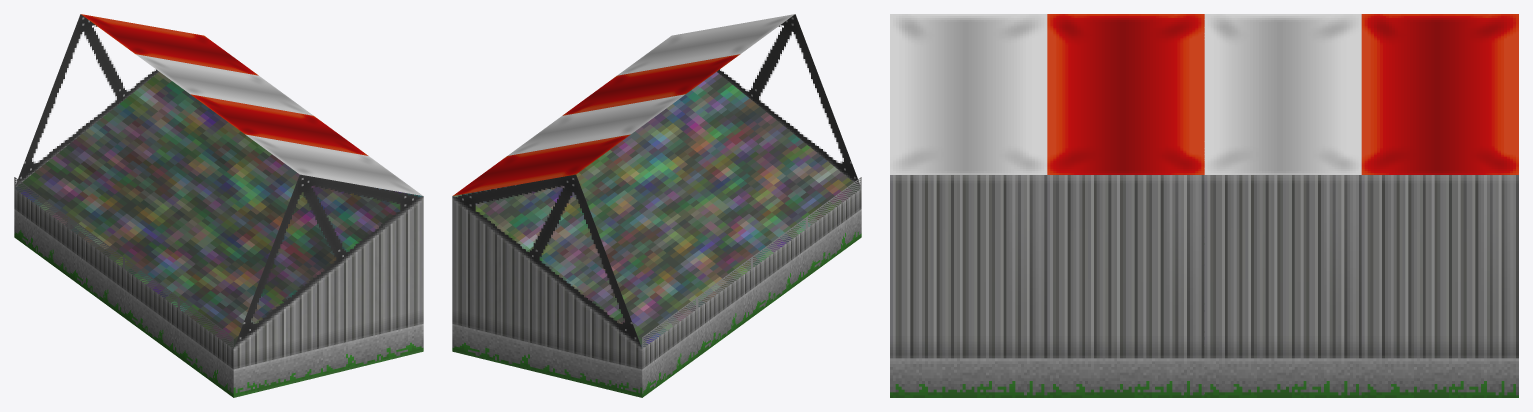
File: Stand.glb
3 renders of one model, left to right at view 1: azimuth 30°, elevation 25°; view 2: azimuth 150°, elevation 25°; view 3: azimuth 270°, elevation 25°, orthographic. The views are drawn at different scales.
Parts seen in each view (by area): view 1: Stand; view 2: Stand; view 3: Stand.
Boxes of the visible parts, x1,y1,x2,y2 form: Stand: (14, 14, 423, 397); Stand: (452, 14, 861, 397); Stand: (890, 14, 1518, 397).
Size of the model in its own units: 0.5 by 0.5216 by 1.
Materials: 1 (1 with a texture image).
